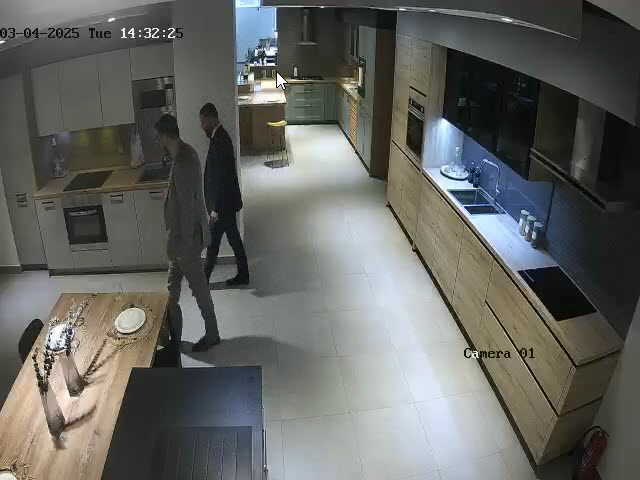employee: (199, 102, 250, 287)
male: (154, 113, 221, 353)
